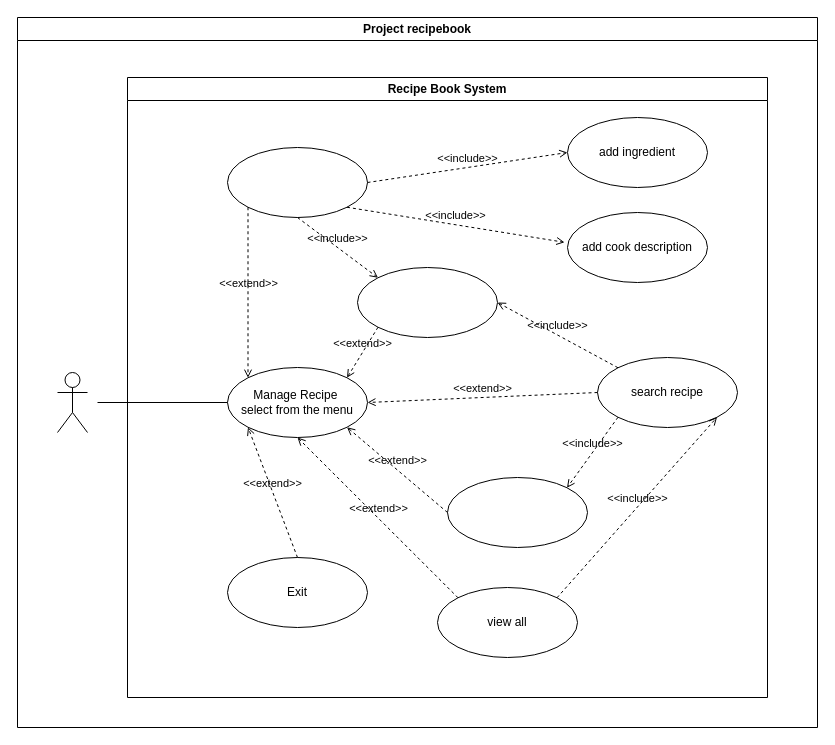
Image size: 835x745. Some labels were removed from this diagram. The shapes that lost their labels are listed below. From the top down, each one's box as (x1, y1, x2, y2) in pixels, then its label:
(226, 146, 368, 218): add a new recipe
(356, 266, 498, 338): update recipe
(56, 372, 88, 432): User
(446, 476, 588, 548): delete recipe
